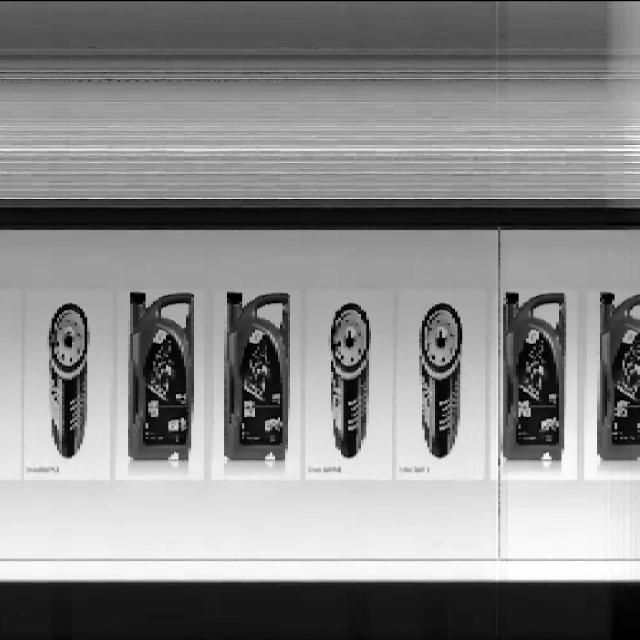motor_oil: (124, 287, 198, 468), (219, 288, 292, 466), (498, 286, 568, 469), (595, 290, 640, 468)
oil_filter: (45, 300, 92, 459), (327, 296, 372, 459), (418, 302, 464, 461)
